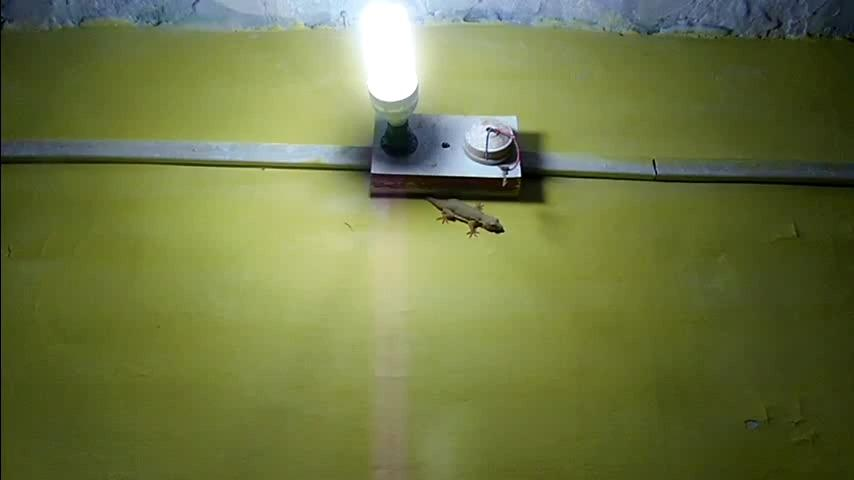lizard: (423, 195, 507, 238)
